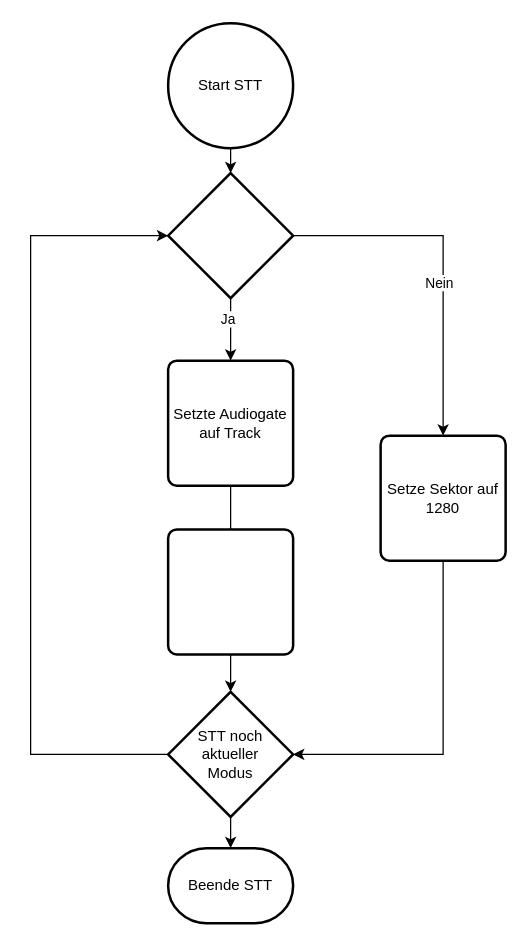
Some shapes in this 529 by 945 pixel diagram are drawn without their labels. The centre of each missing label's shape, as x and y in pixels:
Sektor auf 100 mils: the point at 230,591
Track gefunden: the point at 230,235
